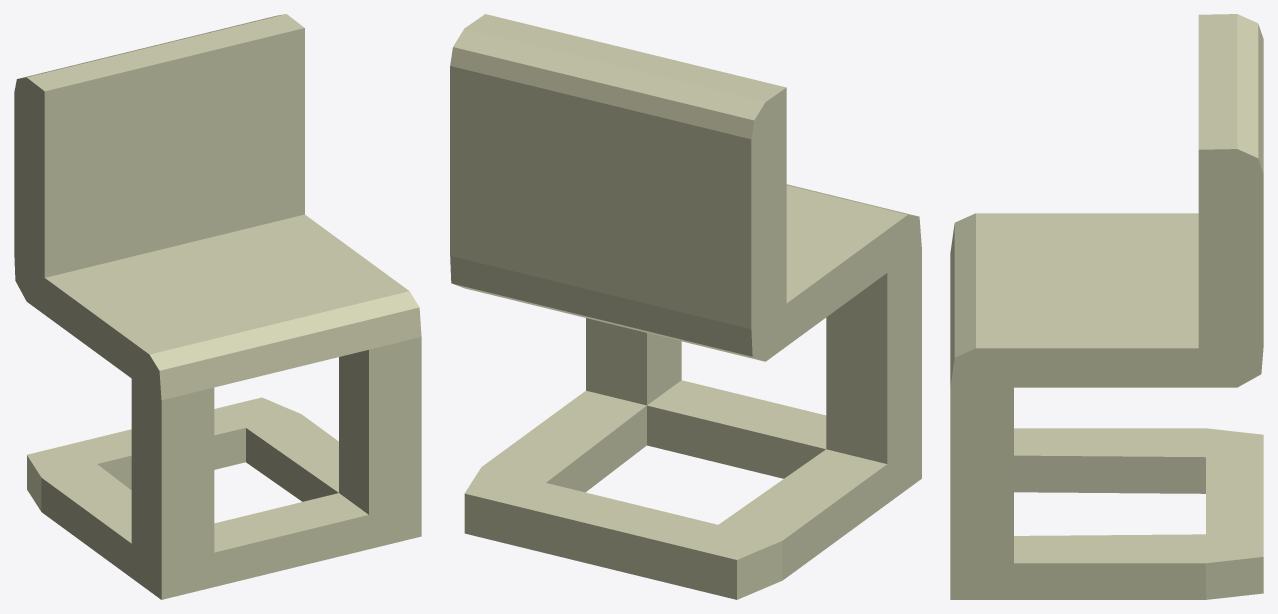
The model's file is chairClinic.fbx.
The picture shows the model from 3 angles, left to right: view 1: azimuth 30°, elevation 25°; view 2: azimuth 150°, elevation 25°; view 3: azimuth 270°, elevation 25°; orthographic projection. The views are drawn at different scales.
Visible parts, largest first — view 1: chair.001; view 2: chair.001; view 3: chair.001.
Boxes of the visible parts, bbox=[...] form: chair.001: bbox=[14, 14, 421, 599]; chair.001: bbox=[450, 14, 921, 599]; chair.001: bbox=[950, 14, 1263, 599].
Bounding box in the file's own units: 148 × 231 × 145.
